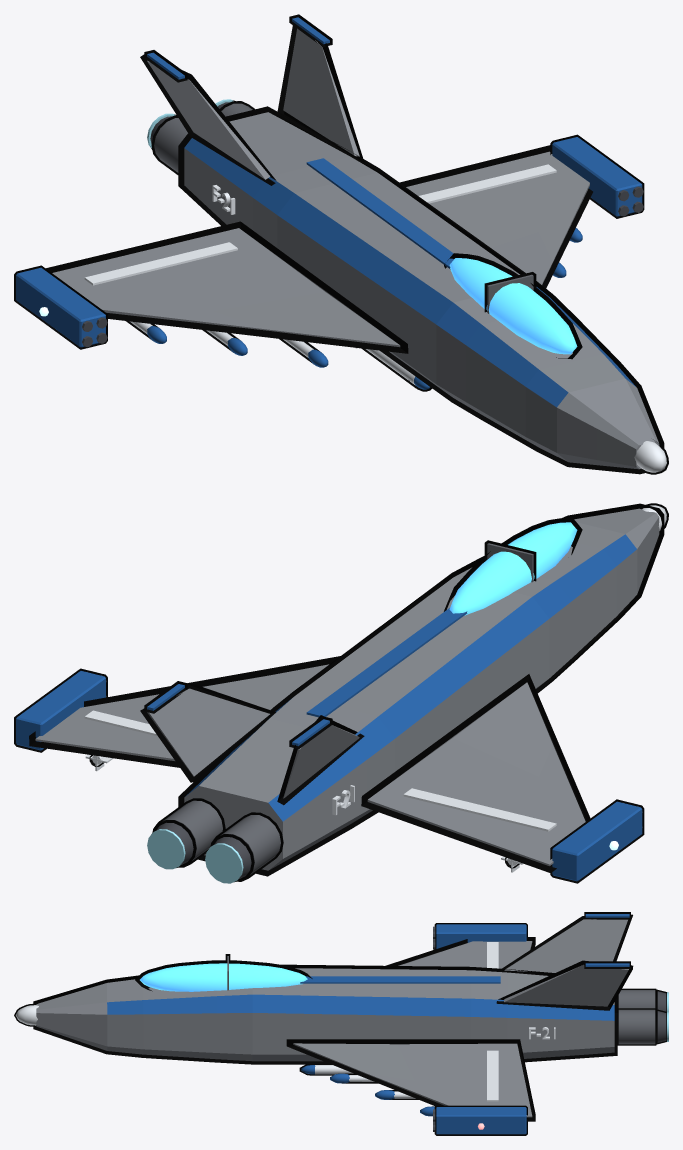
The model's file is Plane_FighterMissile.fbx.
3 renders of one model, top to bottom at view 1: azimuth 30°, elevation 25°; view 2: azimuth 150°, elevation 25°; view 3: azimuth 270°, elevation 25°, orthographic. The views are drawn at different scales.
Visible parts, largest first — view 1: Hull.002, Wing-1.002, Wing1.002, Fin1.002, Canopy.002, Fin-1.002, LPod-1, LPod1, Spine.001, WingStripe-1.002, WingStripe1.002, Eng-1_Body.001 (+2 smaller); view 2: Hull.002, Wing-1.002, Wing1.002, Fin1.002, Canopy.002, LPod-1, LPod1, Fin-1.002, Spine.001, Eng-1_Body.001, Eng1_Body.001, WingStripe-1.002 (+8 smaller); view 3: Hull.002, Wing1.002, Canopy.002, Fin-1.002, Fin1.002, LPod1, Wing-1.002, LPod-1, Spine.001, Eng1_Body.001, Eng-1_Body.001, WingStripe1.002 (+4 smaller).
Boxes of the visible parts, <box> form: Hull.002: <box>178,106,664,474</box>; Wing-1.002: <box>46,221,408,353</box>; Wing1.002: <box>399,145,592,288</box>; Fin1.002: <box>277,25,364,163</box>; Canopy.002: <box>444,253,582,359</box>; Fin-1.002: <box>140,54,276,185</box>; LPod-1: <box>14,265,107,349</box>; LPod1: <box>550,134,644,218</box>; Spine.001: <box>306,158,453,269</box>; WingStripe-1.002: <box>84,242,237,285</box>; WingStripe1.002: <box>418,164,556,203</box>; Eng-1_Body.001: <box>151,115,187,174</box>; Hull.002: <box>178,503,664,876</box>; Wing-1.002: <box>361,674,590,873</box>; Wing1.002: <box>29,656,340,767</box>; Fin1.002: <box>140,683,275,782</box>; Canopy.002: <box>444,517,582,615</box>; LPod-1: <box>550,799,644,883</box>; LPod1: <box>14,668,107,752</box>; Fin-1.002: <box>277,715,364,805</box>; Spine.001: <box>306,608,467,717</box>; Eng-1_Body.001: <box>210,812,283,881</box>; Eng1_Body.001: <box>152,798,225,867</box>; WingStripe-1.002: <box>403,788,556,831</box>; Hull.002: <box>33,964,617,1064</box>; Wing1.002: <box>286,1039,535,1121</box>; Canopy.002: <box>135,960,312,991</box>; Fin-1.002: <box>497,914,632,975</box>; Fin1.002: <box>496,960,633,1010</box>; LPod1: <box>434,1105,527,1135</box>; Wing-1.002: <box>385,937,535,968</box>; LPod-1: <box>434,923,527,949</box>; Spine.001: <box>300,976,500,983</box>; Eng1_Body.001: <box>617,1008,656,1045</box>; Eng-1_Body.001: <box>617,988,656,1008</box>; WingStripe1.002: <box>487,1050,498,1101</box>.
Size of the model in its own units: 11.98 by 3.71 by 16.82.
